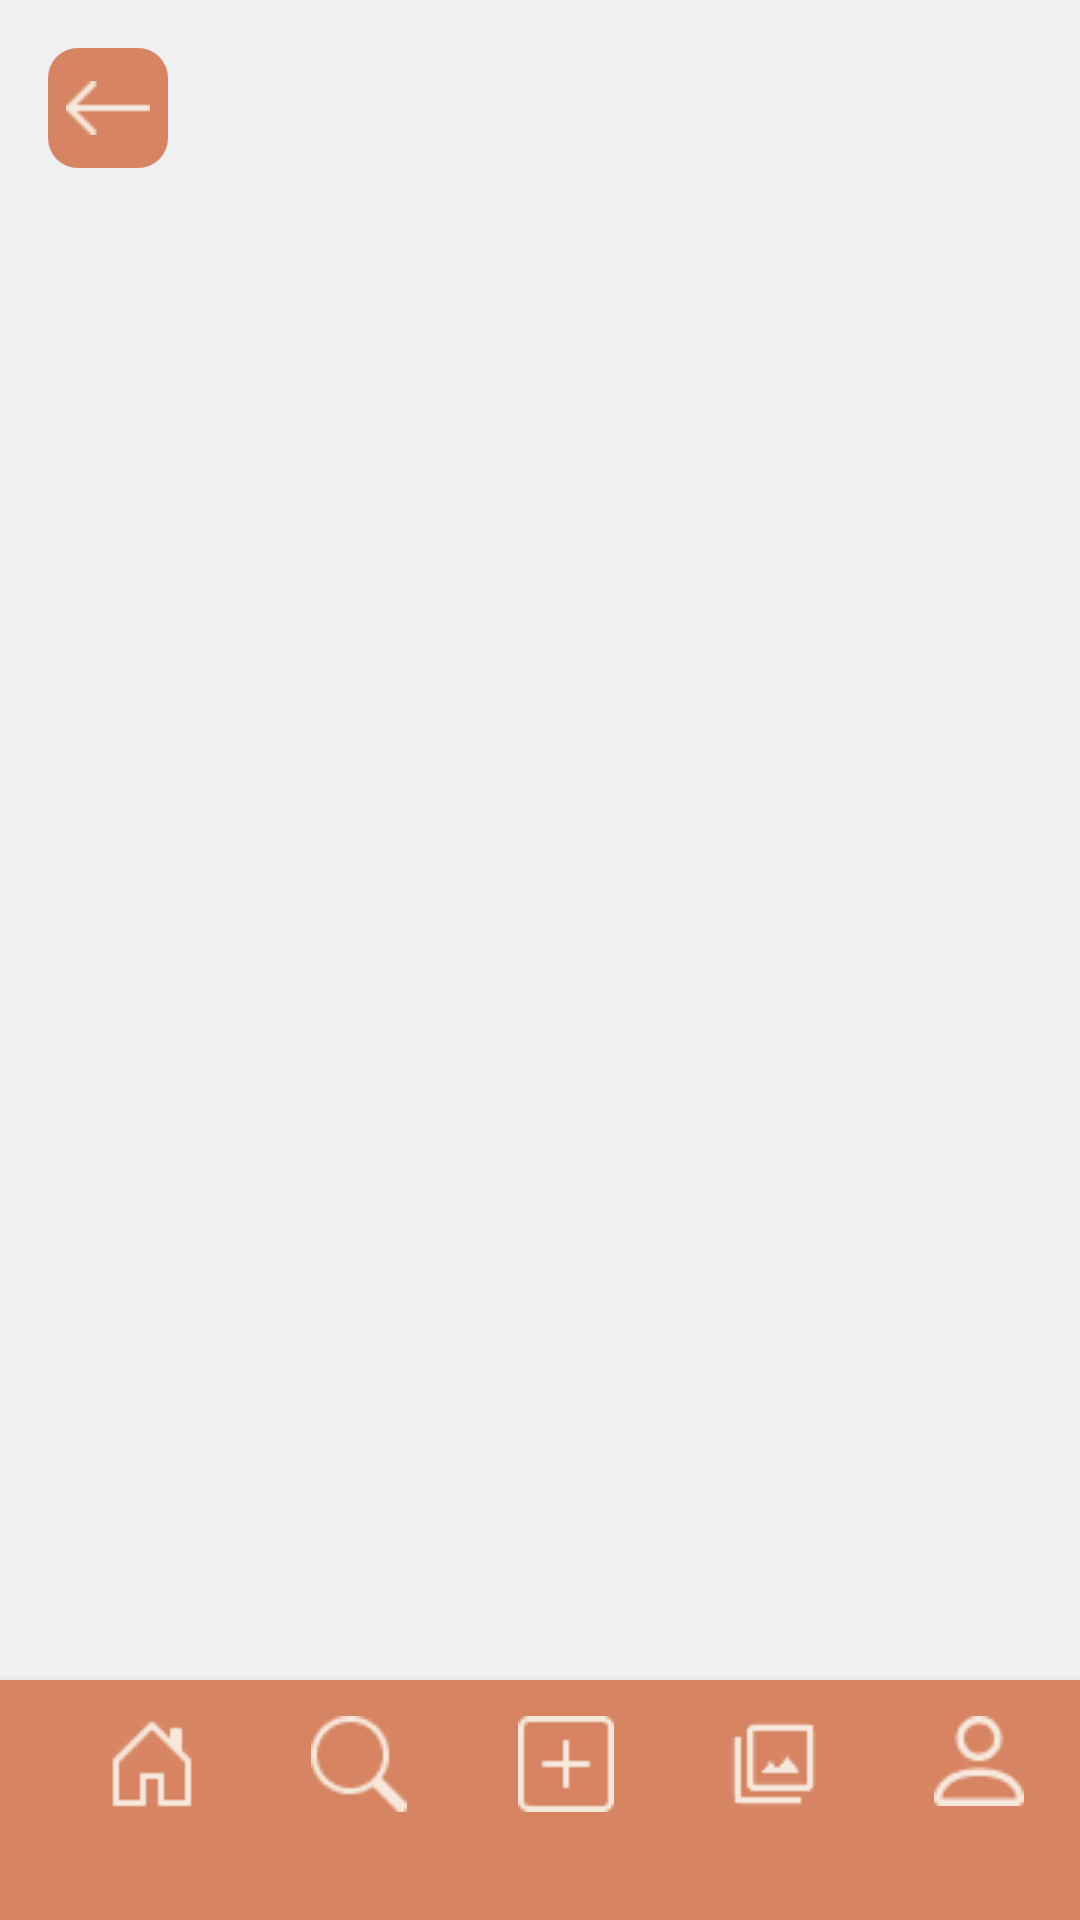

Where icons sit on this 1080 x 1920 app screen, as (x1, y1, x2, y2):
house: (112, 1721, 192, 1807)
left arrow: (48, 48, 168, 168)
person: (934, 1716, 1024, 1806)
plus square: (518, 1716, 614, 1812)
search: (311, 1716, 407, 1812)
